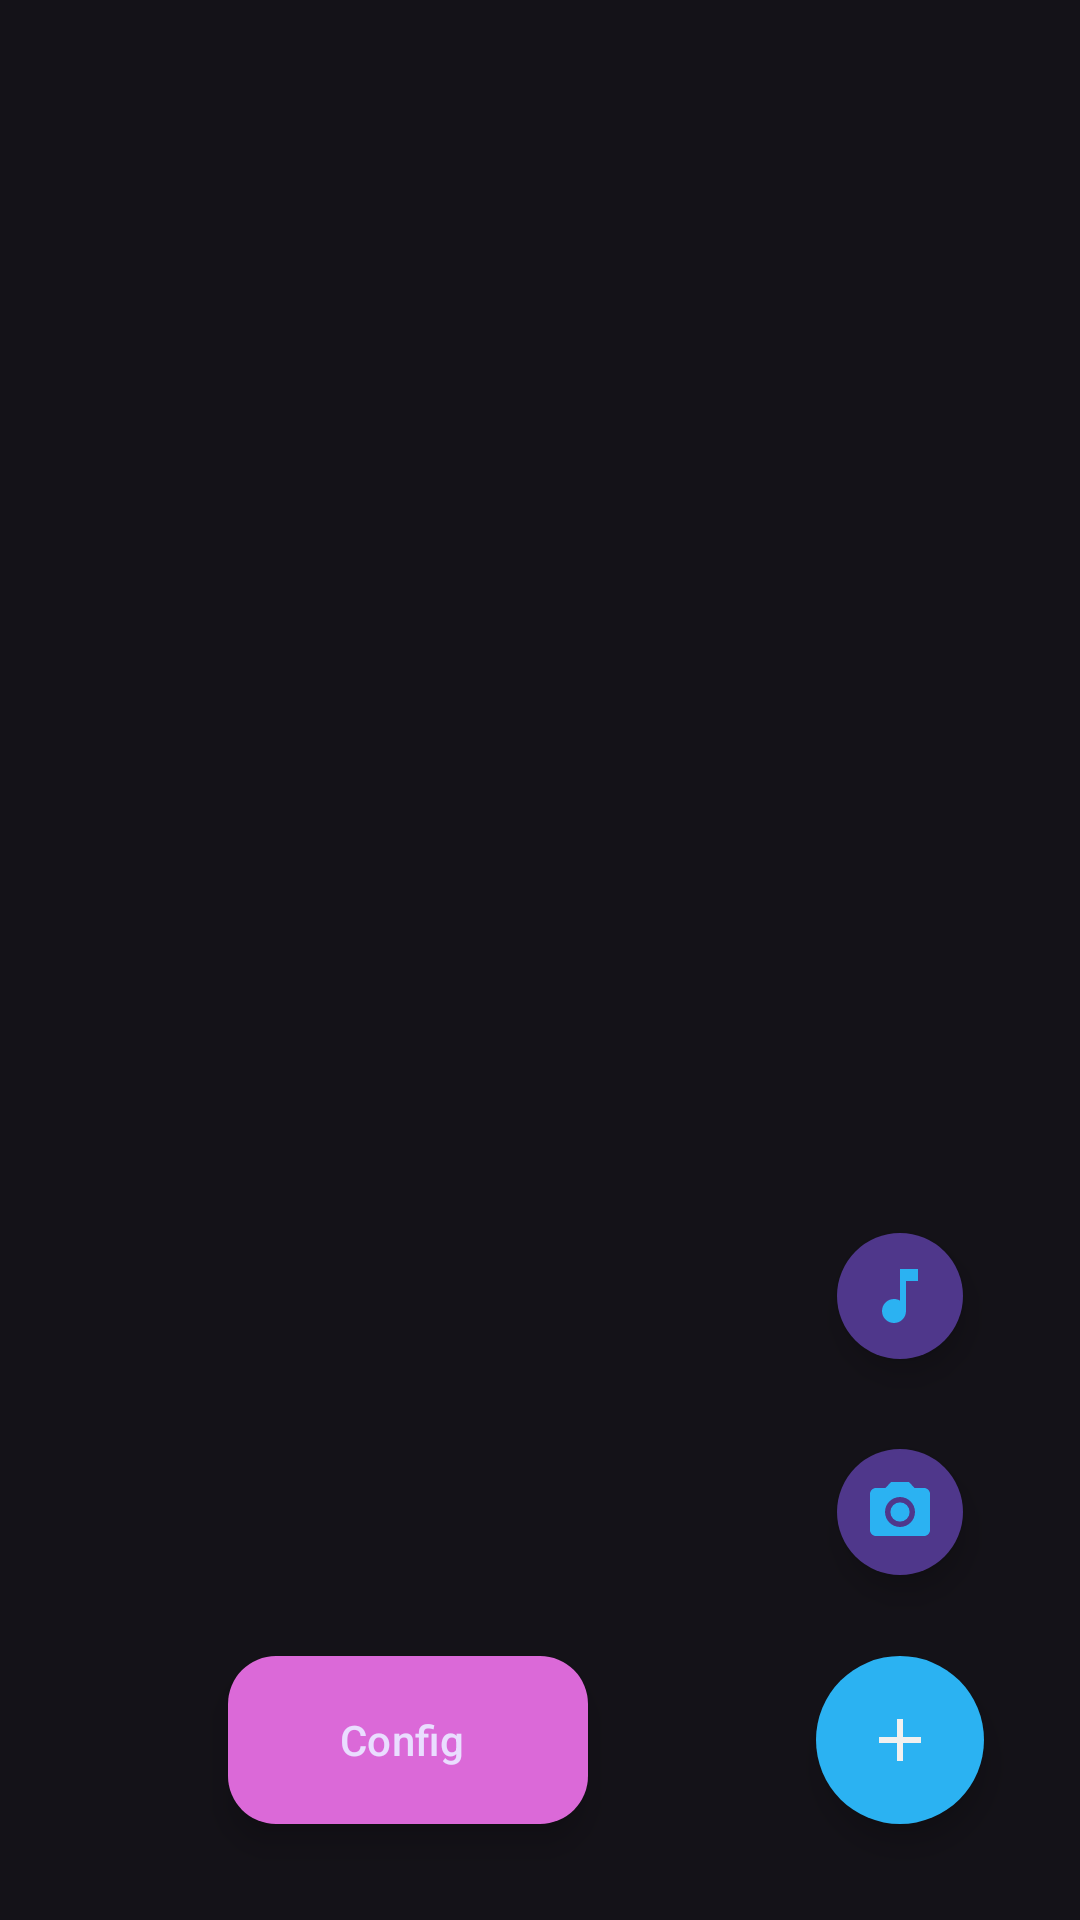

Icon click points for this 1080×1920 phone screenshot, format [x,y]:
add foto: [900,1512]
add music: [900,1296]
adicionar: [900,1740]
